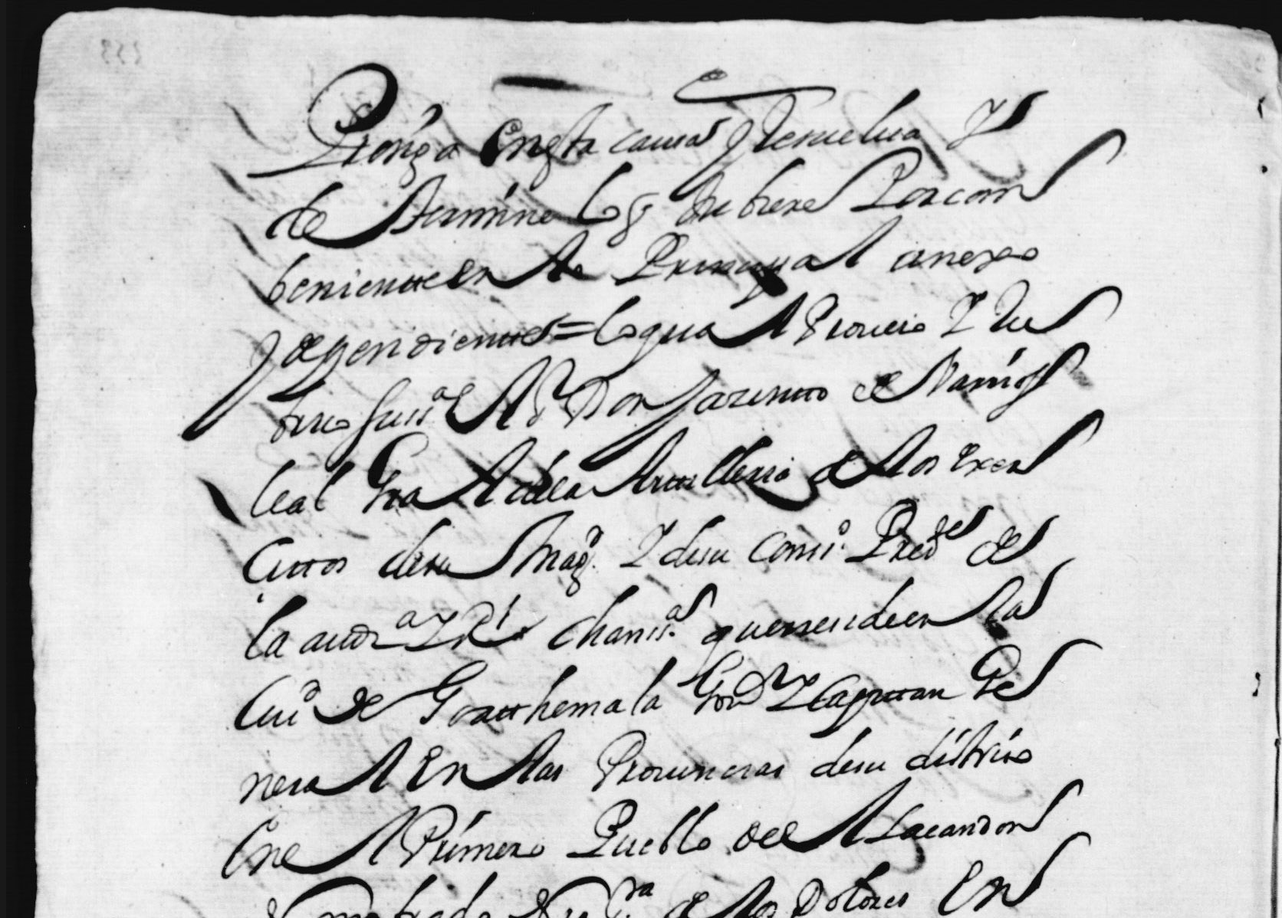lacandon: (863, 779, 1083, 844)
